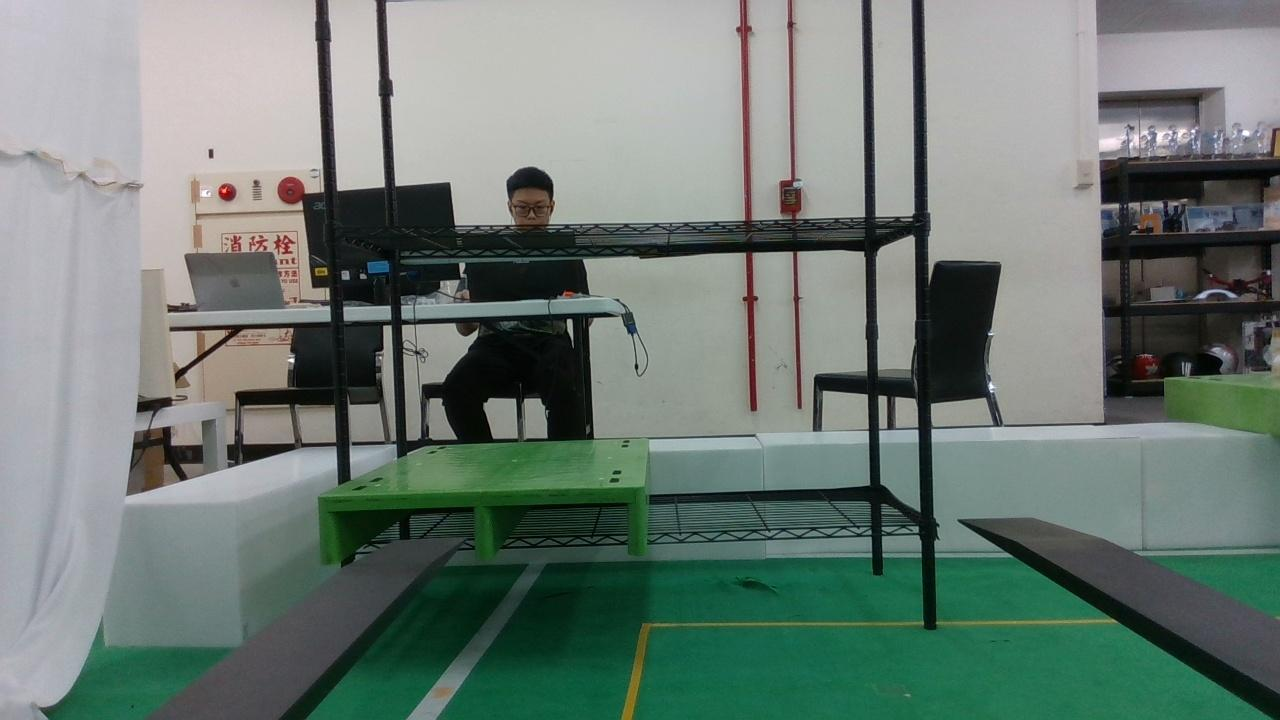Pallet: (319, 484, 651, 567)
